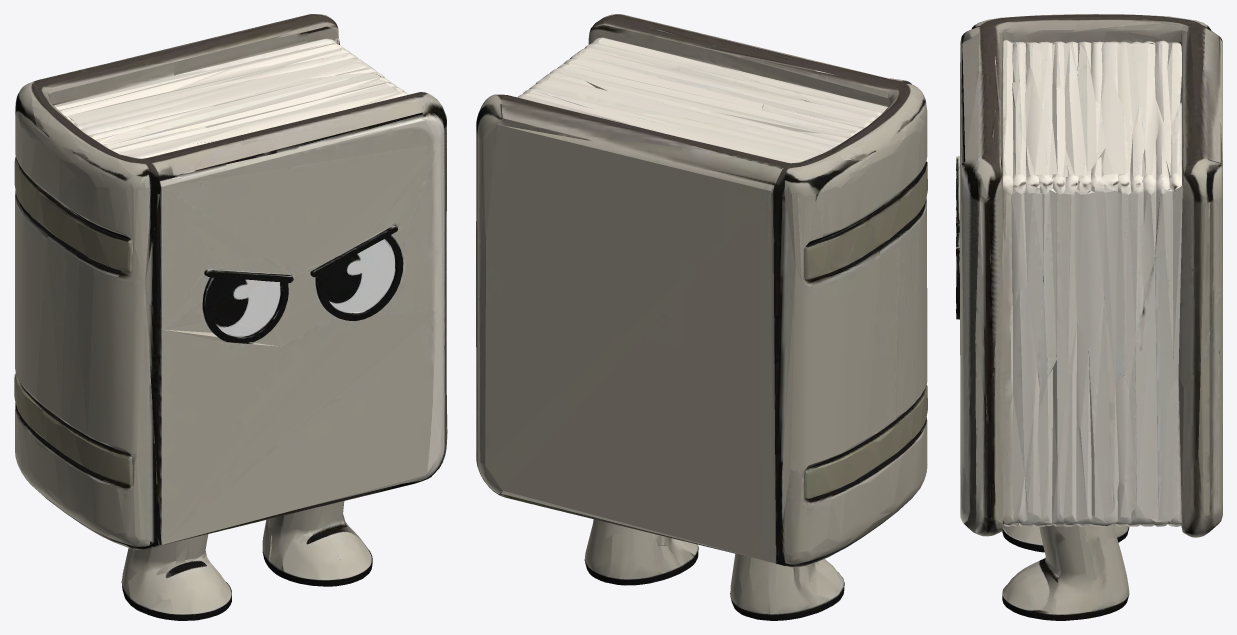
The model's file is creep_normal.glb.
3 renders of one model, left to right at view 1: azimuth 30°, elevation 25°; view 2: azimuth 150°, elevation 25°; view 3: azimuth 270°, elevation 25°, orthographic. The views are drawn at different scales.
Bounding box in the file's own units: 1.41 × 1.9 × 0.973.
Materials: 1 (1 with a texture image).
